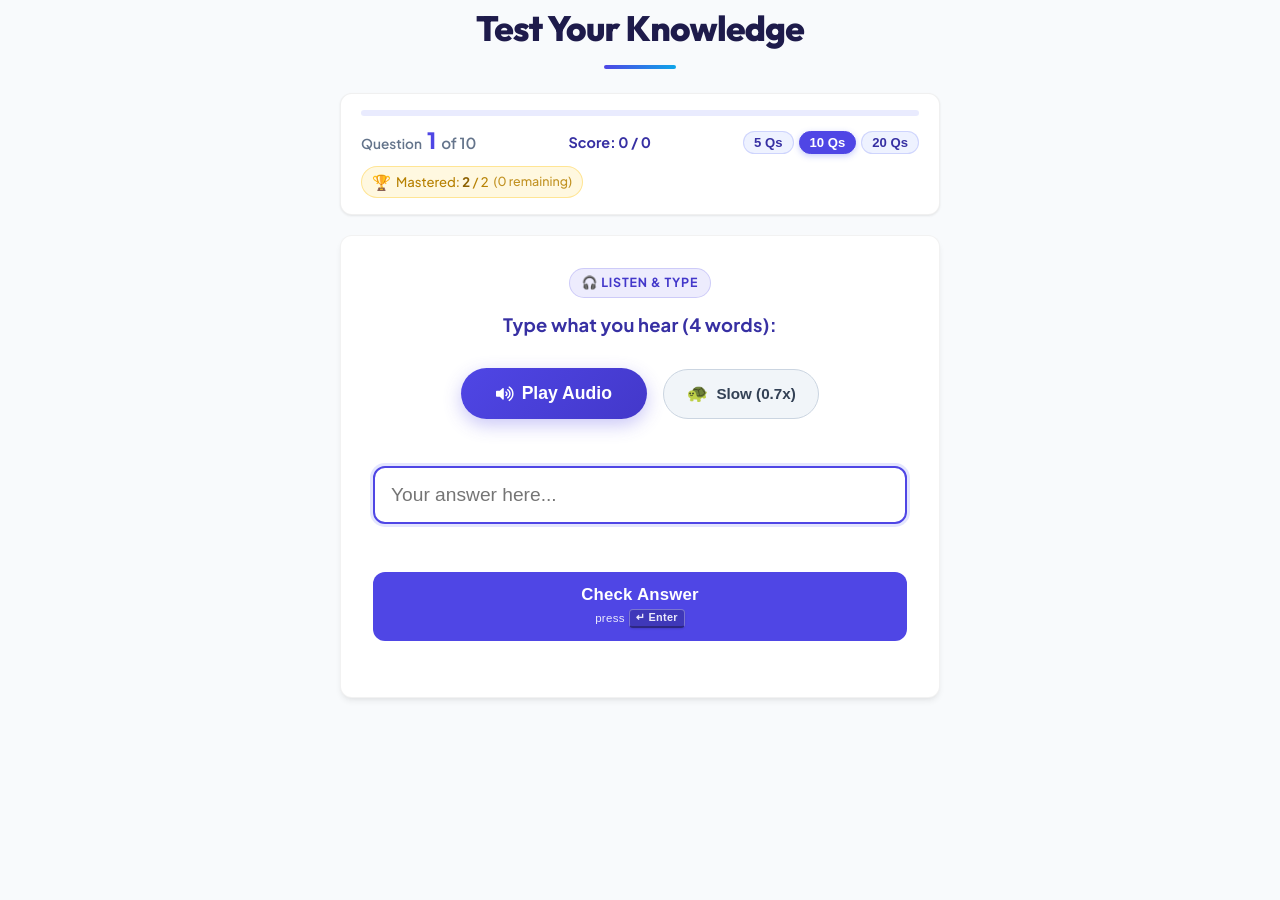
Scenario: Quiz Component - Session Goals & Mastery Filtering › accepts conversational synonyms and contractions for English phrases (e.g., wheres the restroom for where is the bathroom)
// User types contraction + synonym "wheres the restroom"
Type "wheres the restroom" into the field. click: (640, 495)
box: [373, 466, 907, 524]
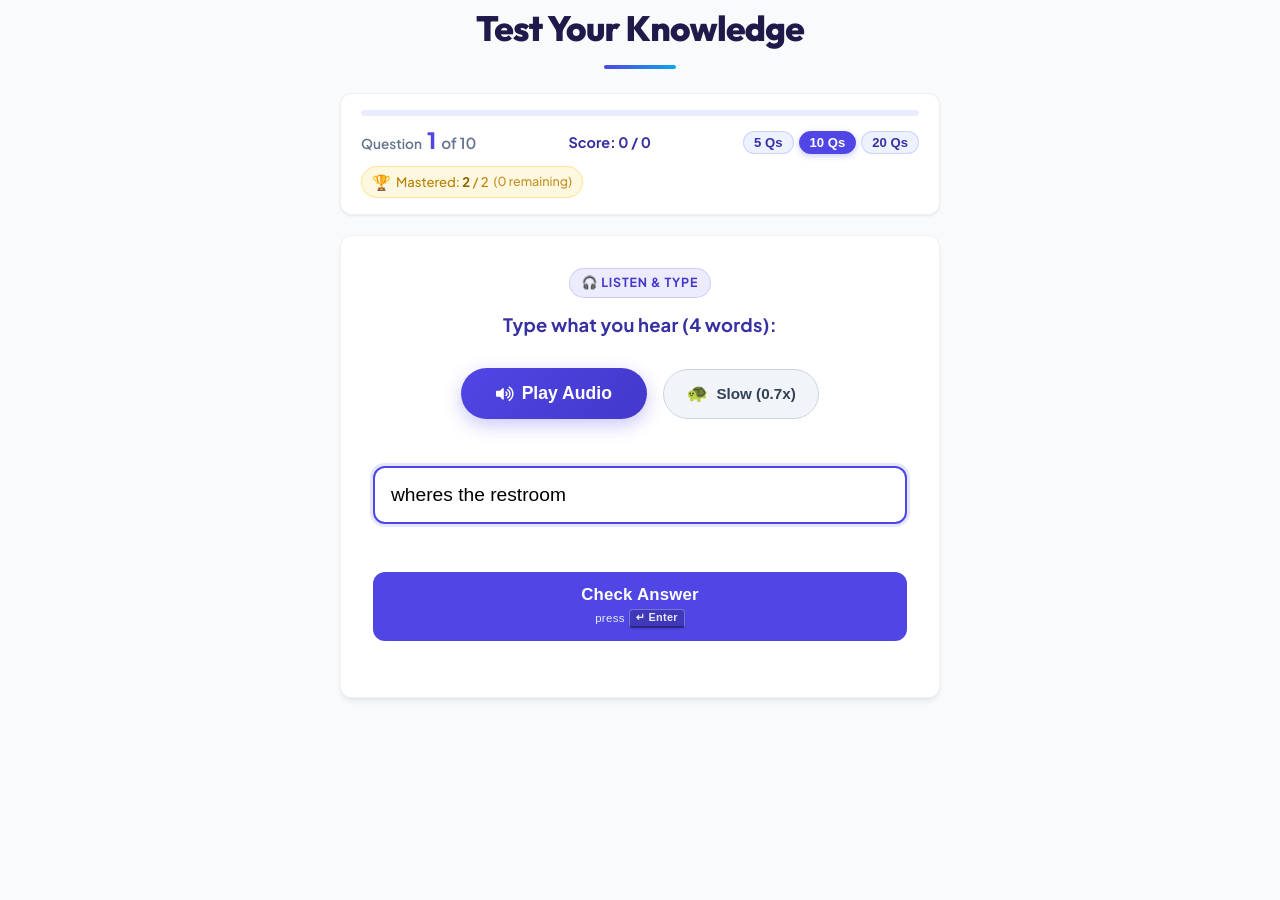
Click the button "Check Answer press ↵ Enter". click: (640, 606)
box: [373, 572, 907, 641]
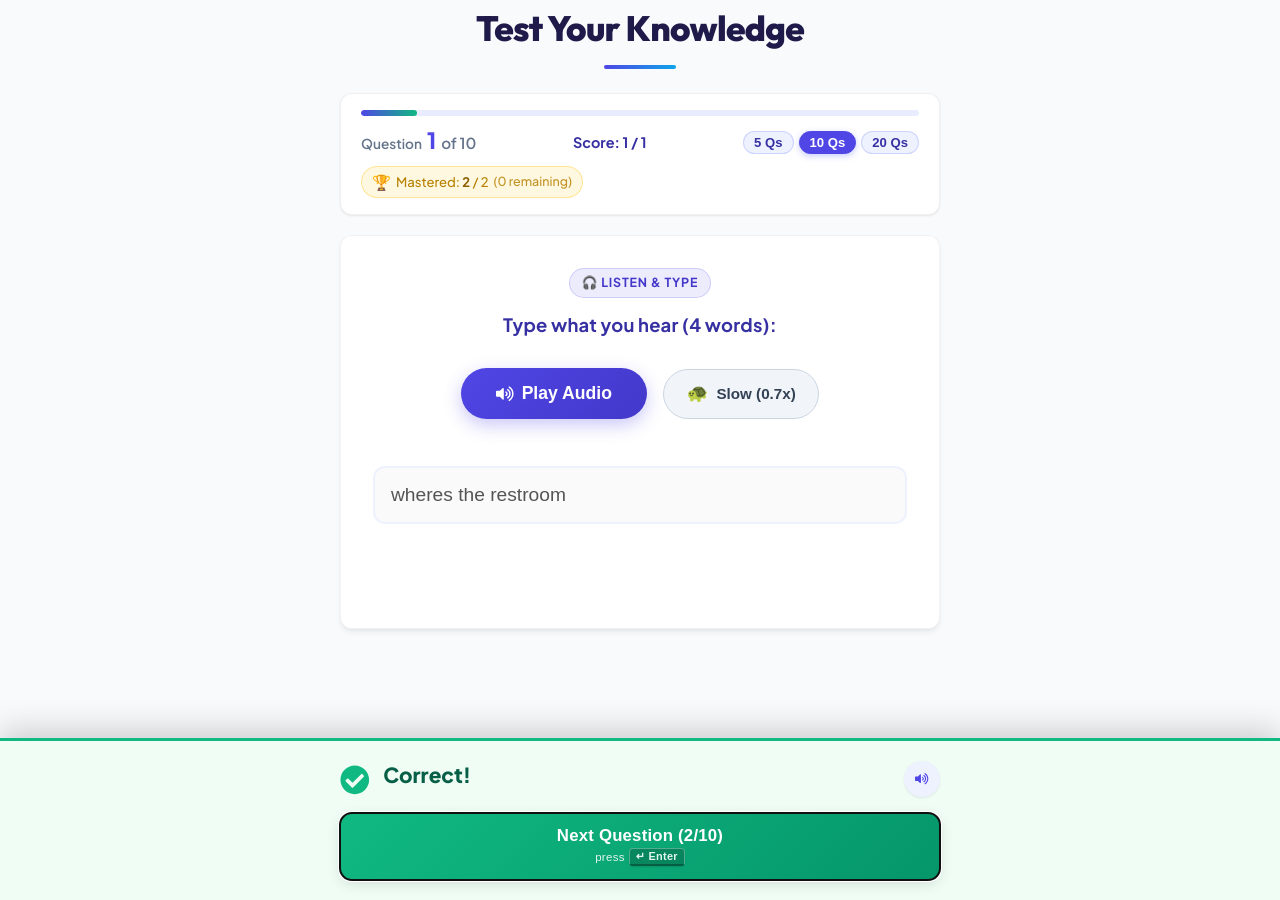
Now the text "Correct!" is shown, box [383, 763, 471, 788]
